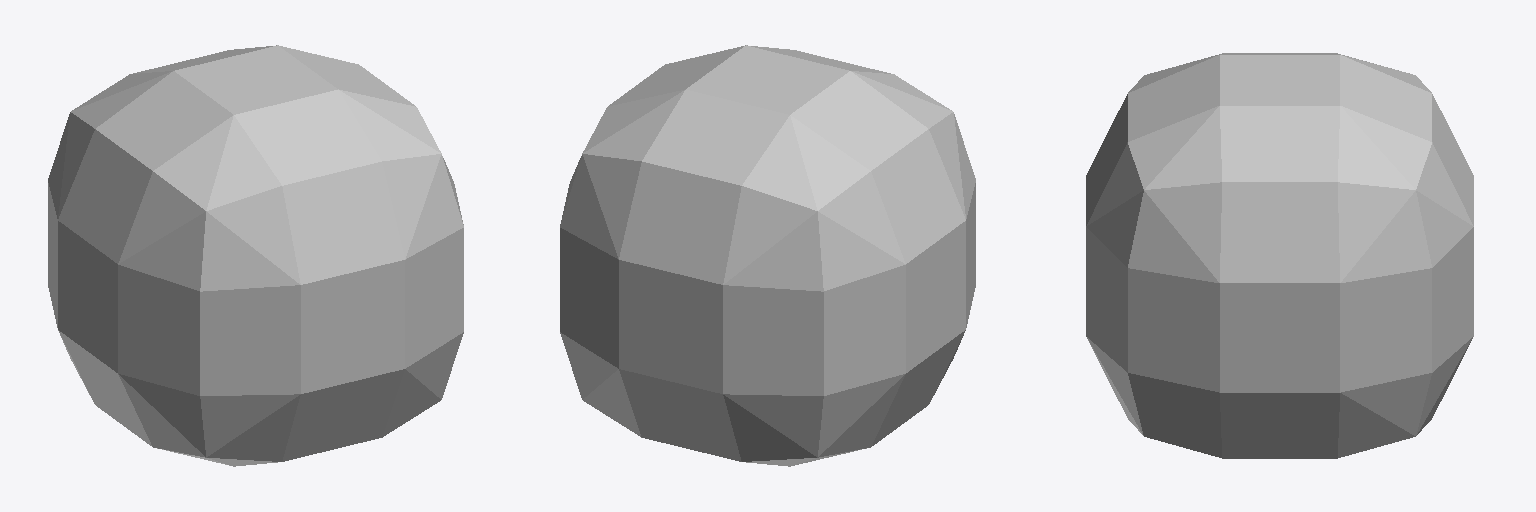
File: cube_grid_smoothed_40.obj
The picture shows the model from 3 angles: view 1: azimuth 30°, elevation 25°; view 2: azimuth 150°, elevation 25°; view 3: azimuth 270°, elevation 25°; orthographic projection.
Bounding box in the file's own units: 0.7767 × 0.7767 × 0.7767.